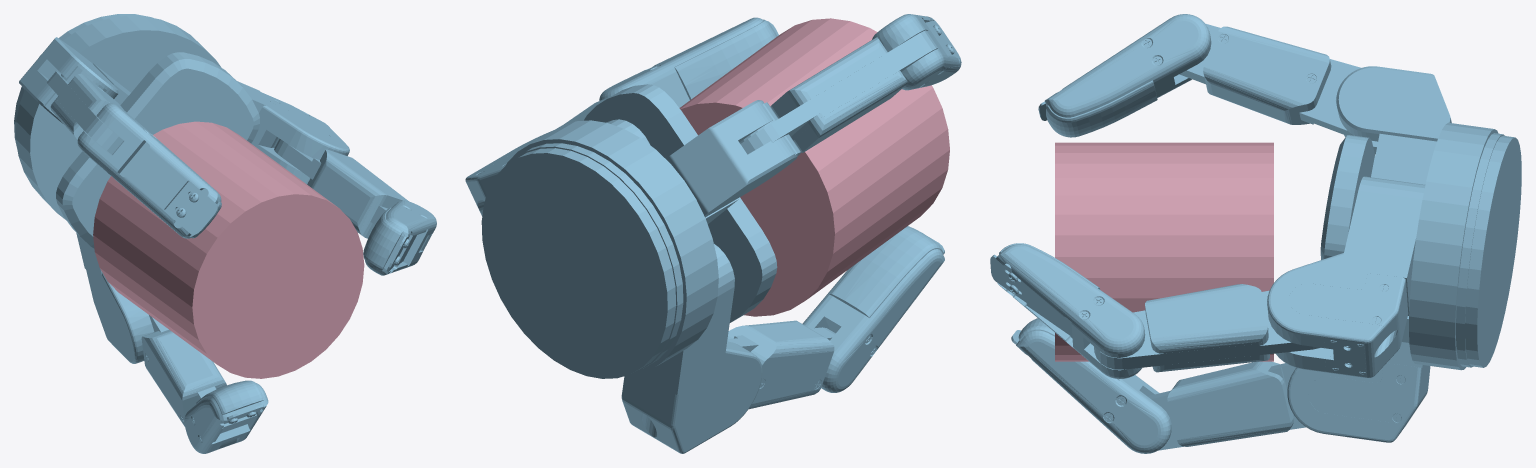
3 renders of one model, left to right at view 1: azimuth 30°, elevation 25°; view 2: azimuth 150°, elevation 25°; view 3: azimuth 270°, elevation 25°, orthographic. The views are drawn at different scales.
Parts seen in each view (by area): view 1: world, cylinder_medium.stl; view 2: world, cylinder_medium.stl; view 3: world, cylinder_medium.stl.
Boxes of the visible parts, x1,y1,x2,y2 form: world: (14, 14, 436, 453); cylinder_medium.stl: (93, 121, 364, 378); world: (465, 14, 961, 453); cylinder_medium.stl: (679, 18, 949, 316); world: (990, 14, 1521, 453); cylinder_medium.stl: (1055, 142, 1273, 361).
Size of the model in its own units: 0.1523 by 0.1566 by 0.1941.
